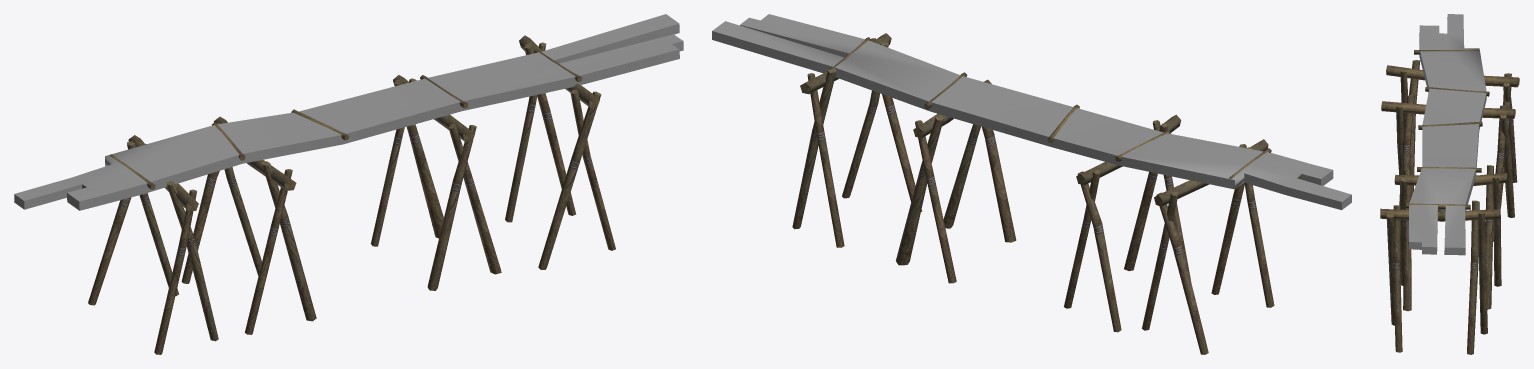
The model's file is Scene_Object_MuQiao_1.FBX.
3 views of the same model, side by side, from view 1: azimuth 30°, elevation 25°; view 2: azimuth 150°, elevation 25°; view 3: azimuth 270°, elevation 25° (orthographic). The views are drawn at different scales.
Visible parts, largest first — view 1: Scene_Object_MuQiao_1_Xcm, Scene_Object_MuQiao_1; view 2: Scene_Object_MuQiao_1_Xcm, Scene_Object_MuQiao_1; view 3: Scene_Object_MuQiao_1, Scene_Object_MuQiao_1_Xcm.
Boxes of the visible parts, left/top/right/bottom form: Scene_Object_MuQiao_1_Xcm: left=14, top=14, right=683, bottom=210; Scene_Object_MuQiao_1: left=82, top=35, right=615, bottom=354; Scene_Object_MuQiao_1_Xcm: left=712, top=14, right=1351, bottom=209; Scene_Object_MuQiao_1: left=792, top=33, right=1301, bottom=354; Scene_Object_MuQiao_1: left=1380, top=49, right=1519, bottom=354; Scene_Object_MuQiao_1_Xcm: left=1409, top=14, right=1486, bottom=255.
Size of the model in its own units: 1939 by 513 by 460.
